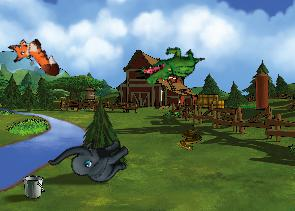crocodile: (137, 33, 206, 99)
elephant: (47, 116, 136, 203)
fox: (4, 28, 63, 90)
